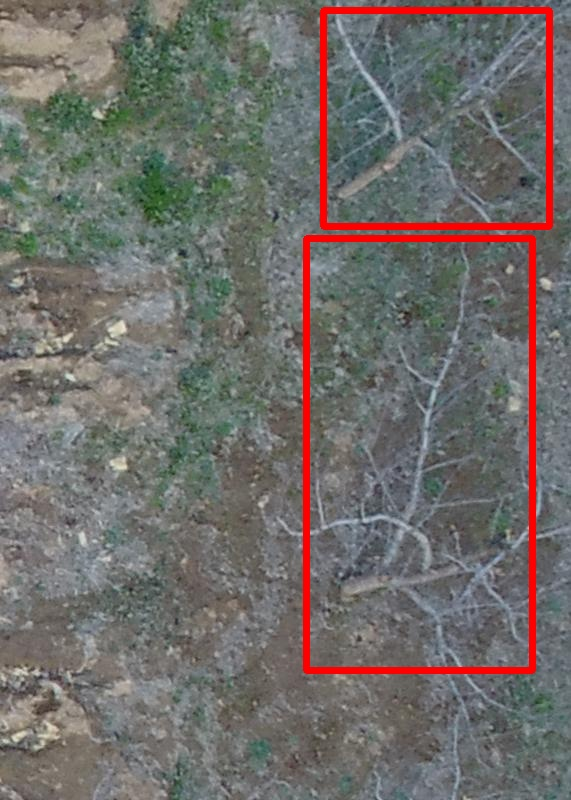apple: (306, 238, 532, 670), (323, 10, 549, 226)
